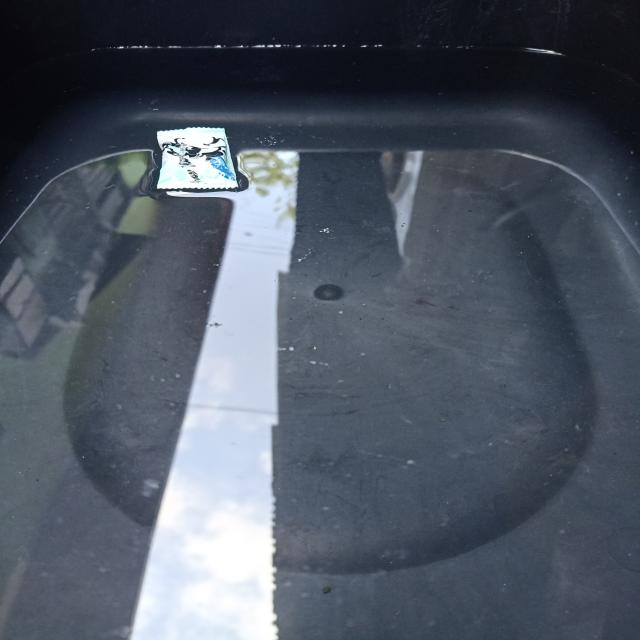Plastic Wrapper: (154, 109, 244, 201)
